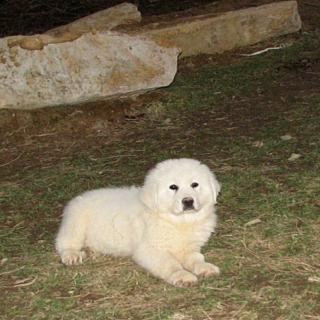dog: (138, 156, 224, 222)
nose: (180, 193, 196, 209)
